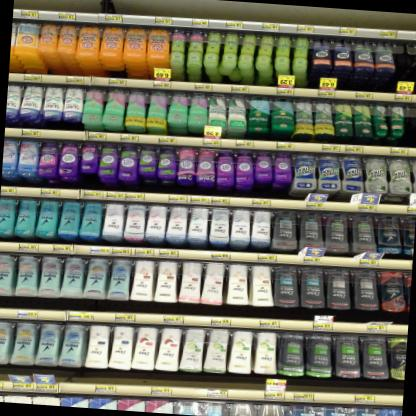empty_space: (390, 39, 416, 94), (404, 105, 416, 148), (412, 40, 416, 95)
